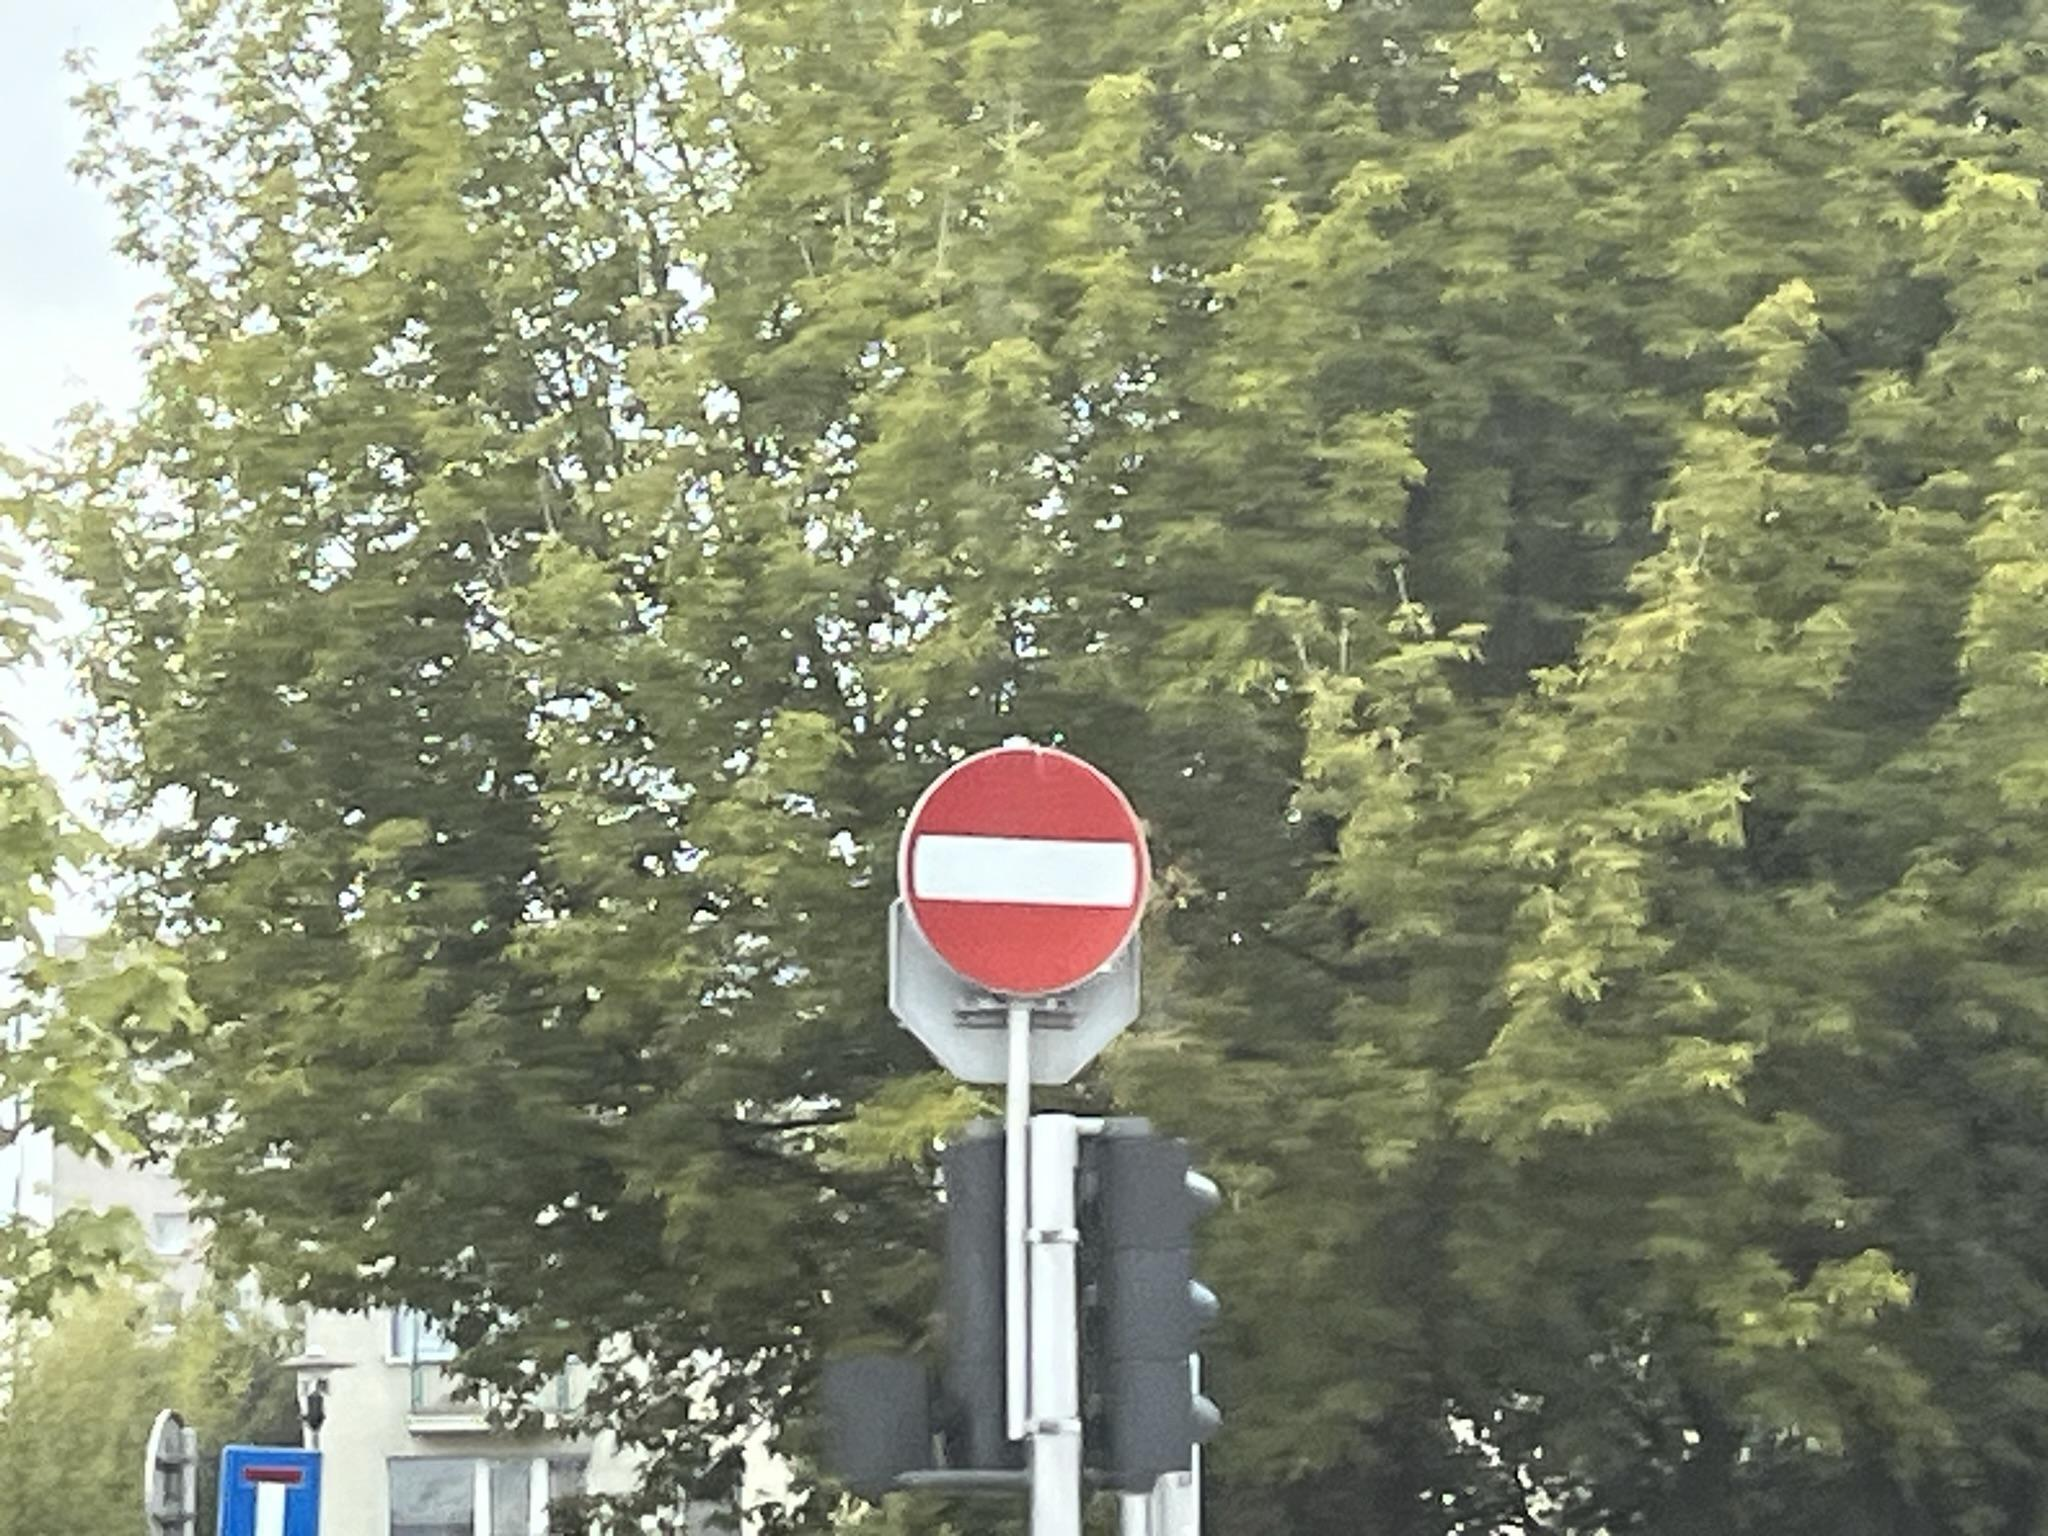information: (219, 1444, 323, 1536)
prohibitory: (897, 737, 1155, 1002)
